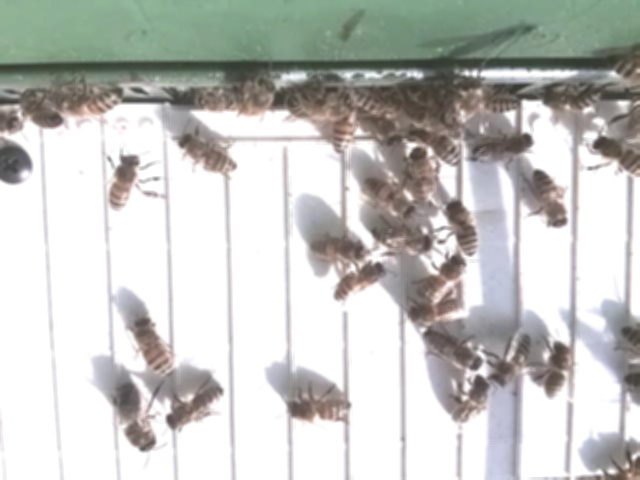Drone: (110, 379, 160, 457)
Worker: (163, 383, 228, 434), (174, 131, 243, 179), (131, 312, 178, 379), (422, 328, 486, 375), (530, 168, 571, 233), (492, 329, 536, 389), (364, 175, 418, 223), (414, 255, 467, 303), (105, 153, 146, 215), (442, 197, 481, 261), (56, 86, 124, 121), (334, 261, 388, 305), (285, 396, 354, 430), (450, 375, 492, 429), (369, 224, 436, 257), (471, 133, 536, 166), (306, 235, 369, 266), (542, 340, 574, 400), (405, 297, 470, 326), (408, 144, 436, 207), (329, 104, 357, 160)
